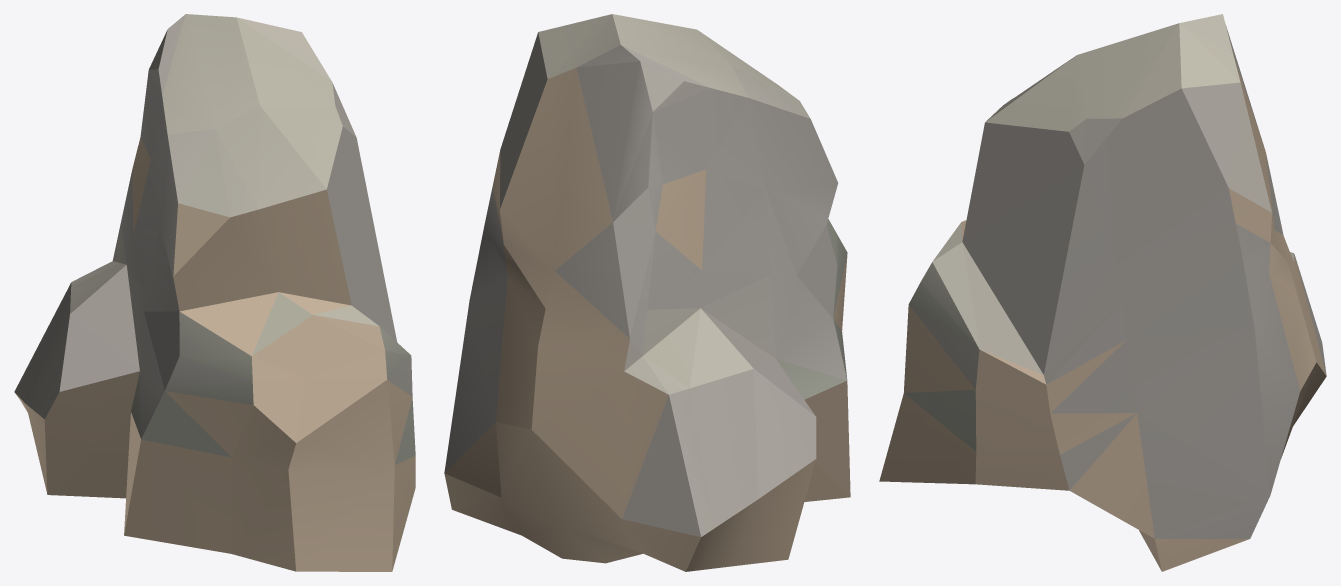
Rendered from rock_4.glb.
3 views of the same model, side by side, from view 1: azimuth 30°, elevation 25°; view 2: azimuth 150°, elevation 25°; view 3: azimuth 270°, elevation 25° (orthographic). The views are drawn at different scales.
Parts seen in each view (by area): view 1: rock_4; view 2: rock_4; view 3: rock_4.
Part boxes in pixels (<box>): rock_4: <box>14,14,415,571</box>; rock_4: <box>444,14,850,571</box>; rock_4: <box>879,14,1326,571</box>.
Size of the model in its own units: 0.8535 by 1.3 by 1.07.
